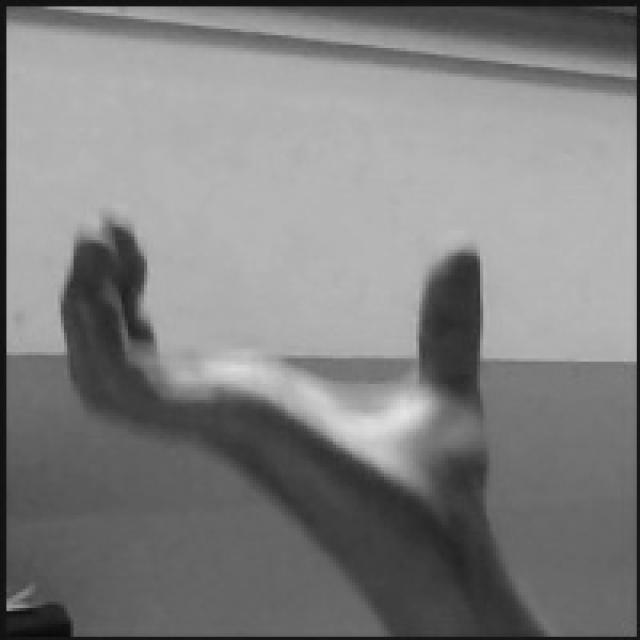space: (59, 203, 499, 520)
